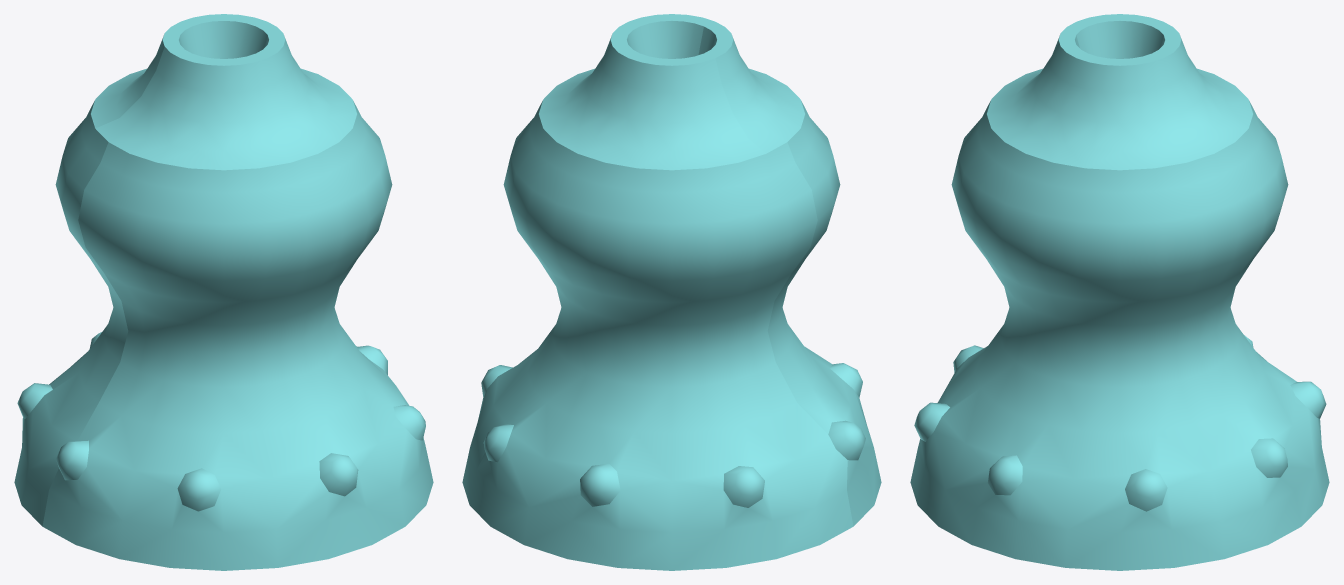
The model's file is SM_Octopus_Planter_Body.fbx.
3 renders of one model, left to right at view 1: azimuth 30°, elevation 25°; view 2: azimuth 150°, elevation 25°; view 3: azimuth 270°, elevation 25°, orthographic.
Parts seen in each view (by area): view 1: SM_Octopus_Planter_Body; view 2: SM_Octopus_Planter_Body; view 3: SM_Octopus_Planter_Body.
Boxes of the visible parts, x1,y1,x2,y2 form: SM_Octopus_Planter_Body: (14,14,433,570); SM_Octopus_Planter_Body: (462,14,881,570); SM_Octopus_Planter_Body: (910,14,1329,570).
Bounding box in the file's own units: 58.01 × 67.58 × 58.01.
